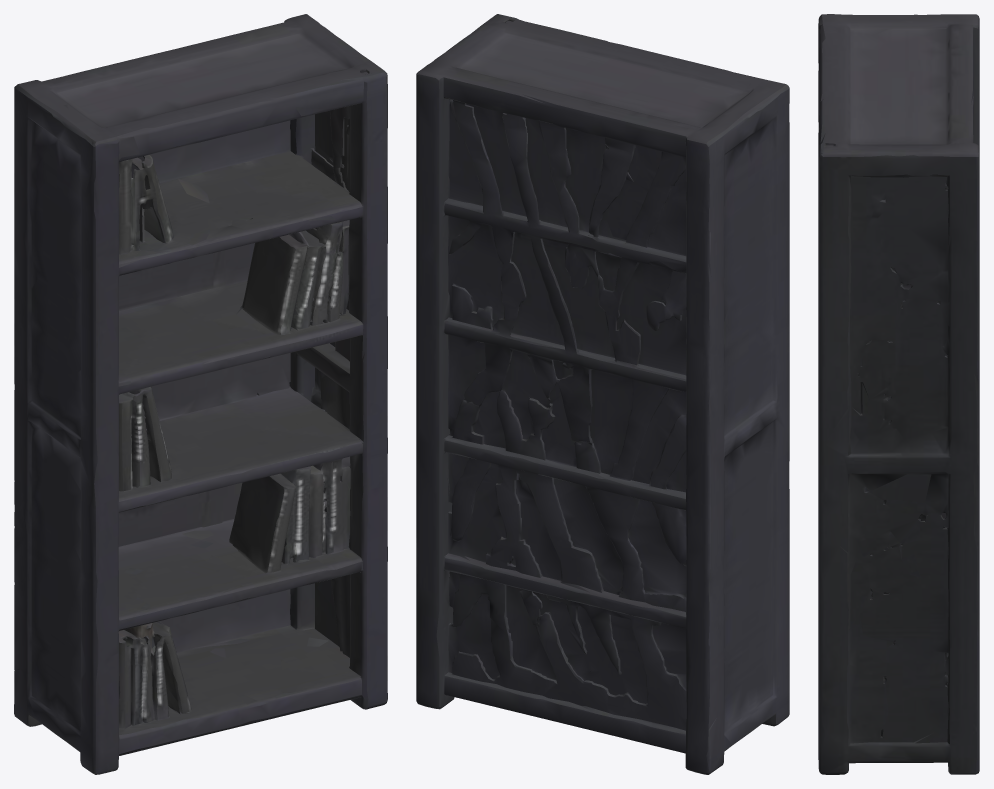
File: L_BOOKSHELF.cyberpunk.glb
3 renders of one model, left to right at view 1: azimuth 30°, elevation 25°; view 2: azimuth 150°, elevation 25°; view 3: azimuth 270°, elevation 25°, orthographic.
Parts seen in each view (by area): view 1: geometry_0; view 2: geometry_0; view 3: geometry_0.
Part boxes in pixels (x1,y1,x2,y2): geometry_0: (14, 14, 387, 774); geometry_0: (416, 14, 789, 774); geometry_0: (818, 14, 979, 774).
Bounding box in the file's own units: 0.8787 × 1.8 × 0.4237.
1 material, 1 textured.
